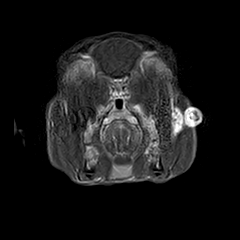Brain: (68, 7, 167, 105)
